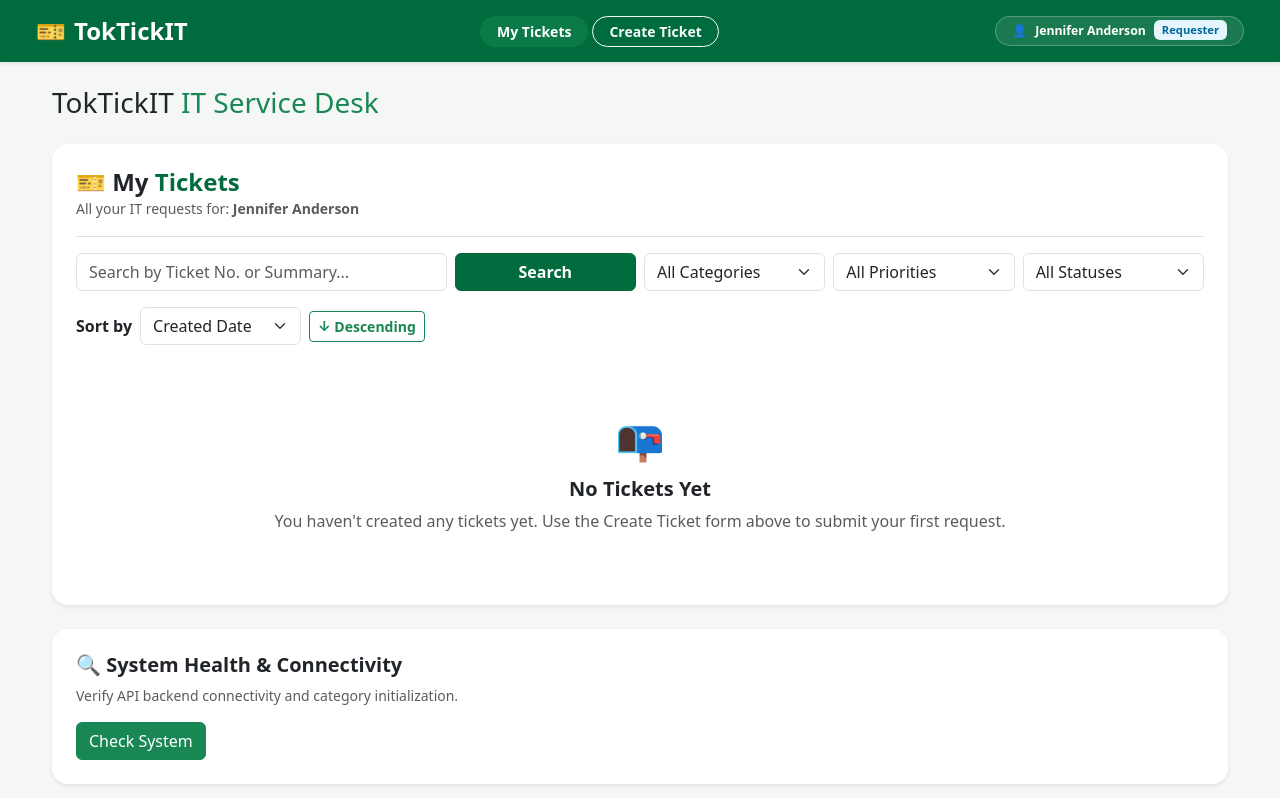
Test: Auth-03: Header, Navigation & Logout › Auth-03b: clicking Create Ticket shows the ticket form
Expected: the text with test id "header-user-name" is shown, [1035,22,1146,40]
Click the button with test id "header-nav-create-ticket" at {"x": 656, "y": 31}, box [592,16,719,46]
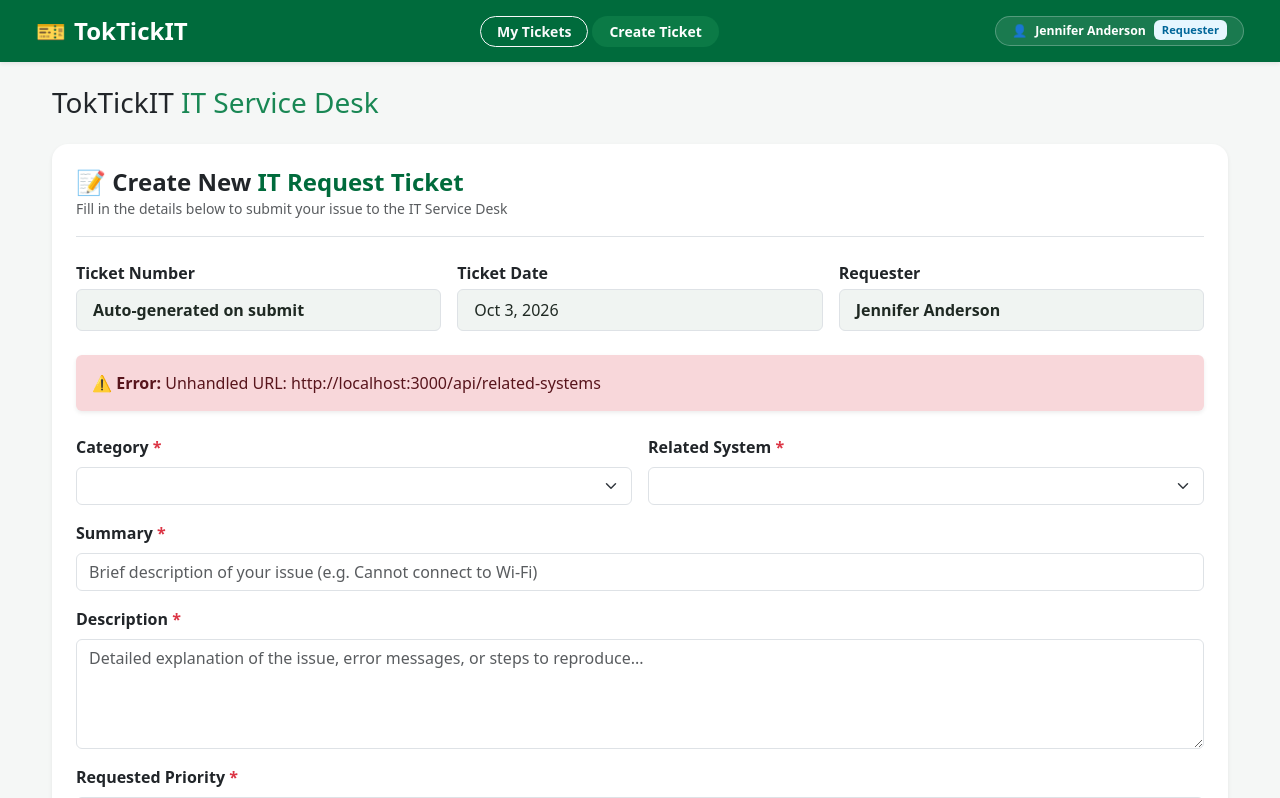
Now the heading "📝 Create New IT Request Ticket" is shown, box [76,168,508,196]
